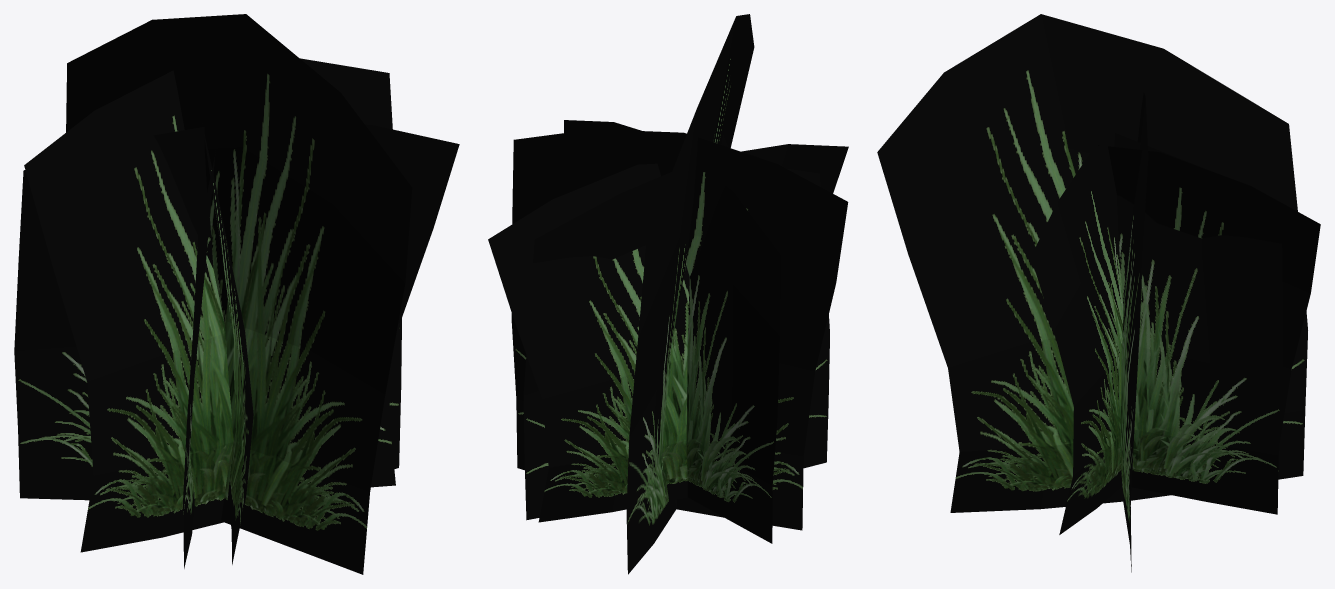
Rendered from Grass.fbx.
3 views of the same model, side by side, from view 1: azimuth 30°, elevation 25°; view 2: azimuth 150°, elevation 25°; view 3: azimuth 270°, elevation 25° (orthographic). The views are drawn at different scales.
Parts seen in each view (by area): view 1: pngtree-green-grass-bush-png-image_6006215-3520262990.004, pngtree-green-grass-bush-png-image_6006215-3520262990, pngtree-green-grass-bush-png-image_6006215-3520262990.001, pngtree-green-grass-bush-png-image_6006215-3520262990.002, pngtree-green-grass-bush-png-image_6006215-3520262990.003; view 2: pngtree-green-grass-bush-png-image_6006215-3520262990.003, pngtree-green-grass-bush-png-image_6006215-3520262990, pngtree-green-grass-bush-png-image_6006215-3520262990.001, pngtree-green-grass-bush-png-image_6006215-3520262990.004, pngtree-green-grass-bush-png-image_6006215-3520262990.002; view 3: pngtree-green-grass-bush-png-image_6006215-3520262990.004, pngtree-green-grass-bush-png-image_6006215-3520262990.002, pngtree-green-grass-bush-png-image_6006215-3520262990.001, pngtree-green-grass-bush-png-image_6006215-3520262990.003, pngtree-green-grass-bush-png-image_6006215-3520262990.
Part boxes in pixels (bbox=[...]): pngtree-green-grass-bush-png-image_6006215-3520262990.004: bbox=[66, 14, 412, 574]; pngtree-green-grass-bush-png-image_6006215-3520262990: bbox=[24, 58, 401, 552]; pngtree-green-grass-bush-png-image_6006215-3520262990.001: bbox=[14, 124, 459, 500]; pngtree-green-grass-bush-png-image_6006215-3520262990.002: bbox=[202, 121, 253, 564]; pngtree-green-grass-bush-png-image_6006215-3520262990.003: bbox=[183, 157, 214, 568]; pngtree-green-grass-bush-png-image_6006215-3520262990.003: bbox=[488, 163, 829, 522]; pngtree-green-grass-bush-png-image_6006215-3520262990: bbox=[511, 129, 848, 530]; pngtree-green-grass-bush-png-image_6006215-3520262990.001: bbox=[564, 120, 780, 543]; pngtree-green-grass-bush-png-image_6006215-3520262990.004: bbox=[626, 14, 754, 574]; pngtree-green-grass-bush-png-image_6006215-3520262990.002: bbox=[523, 144, 848, 520]; pngtree-green-grass-bush-png-image_6006215-3520262990.004: bbox=[877, 14, 1307, 512]; pngtree-green-grass-bush-png-image_6006215-3520262990.002: bbox=[1114, 133, 1283, 514]; pngtree-green-grass-bush-png-image_6006215-3520262990.001: bbox=[1031, 138, 1123, 534]; pngtree-green-grass-bush-png-image_6006215-3520262990.003: bbox=[1098, 145, 1320, 474]; pngtree-green-grass-bush-png-image_6006215-3520262990: bbox=[1120, 92, 1148, 572].
Bounding box in the file's own units: 116 × 158 × 132.
